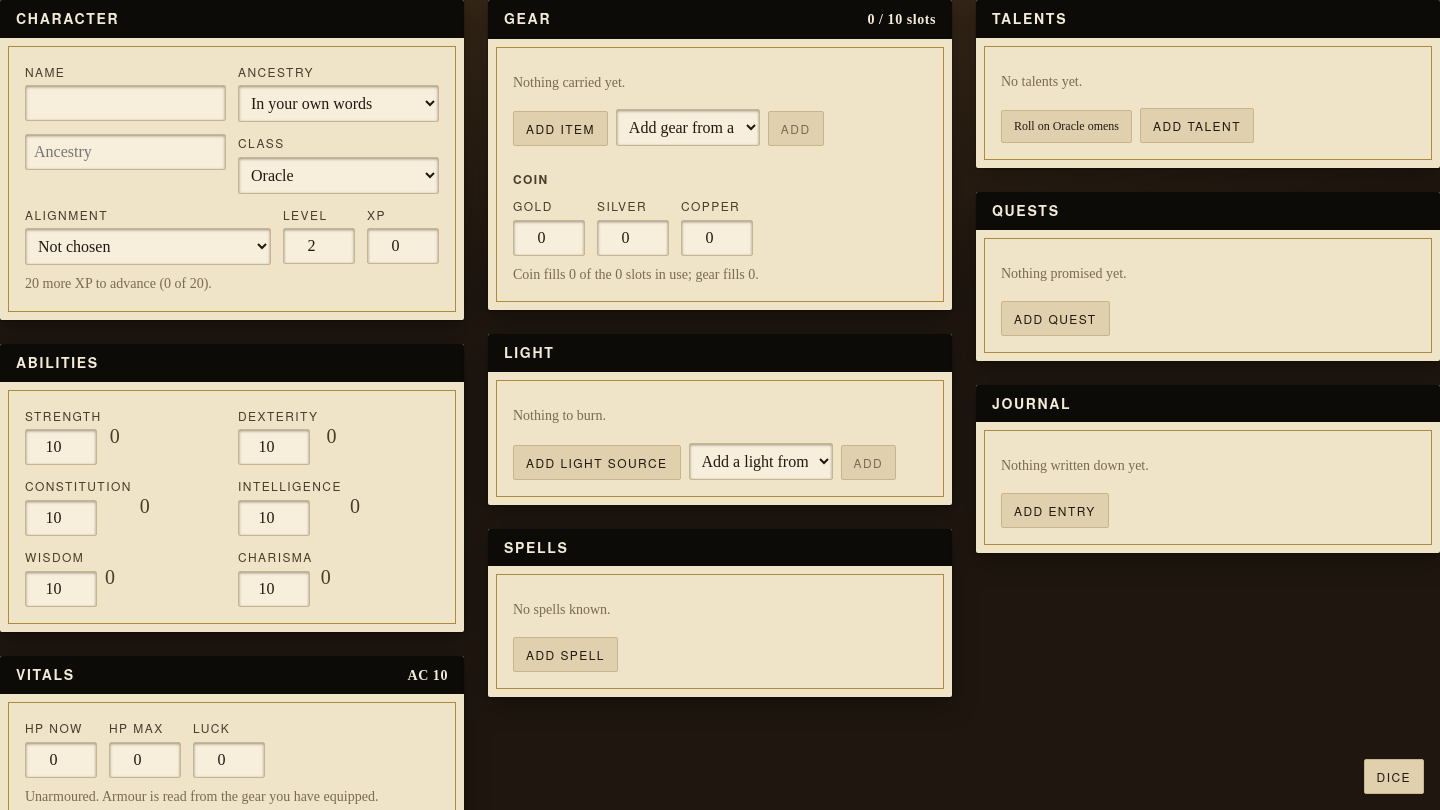
a rerollable table’s offer › offers the reroll on the card, and writes nothing while it stands
Click the button "Roll on Oracle omens" at point(1066, 127), box [1001,110,1132,143]
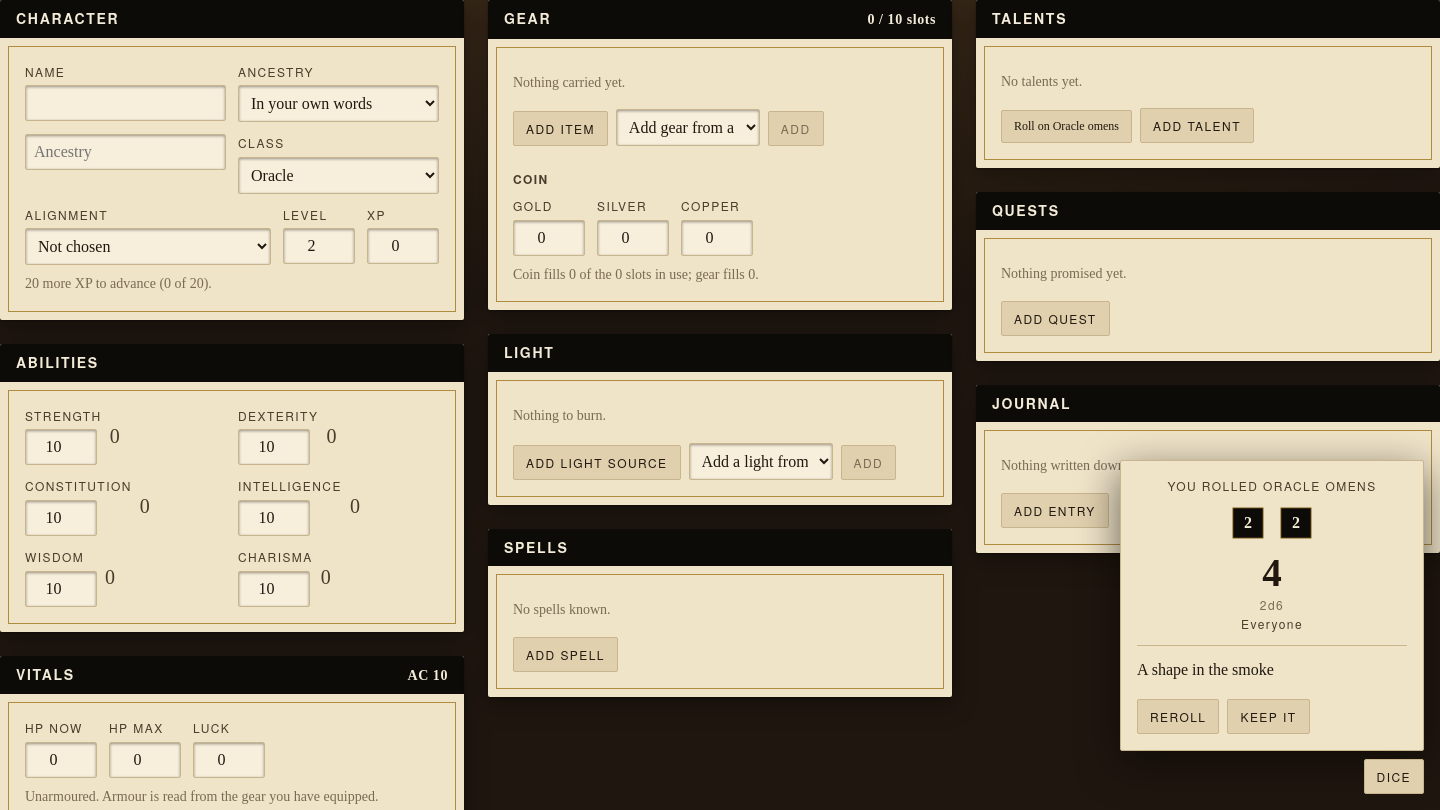
Expected: the text with class "dice__row" reads "A shape in the smoke", [1137,661,1274,678]
